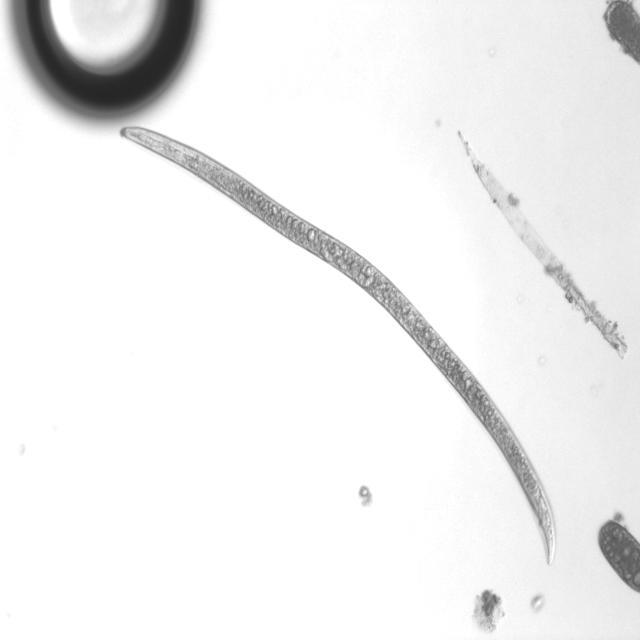Pratylenchus: (113, 119, 562, 566)
